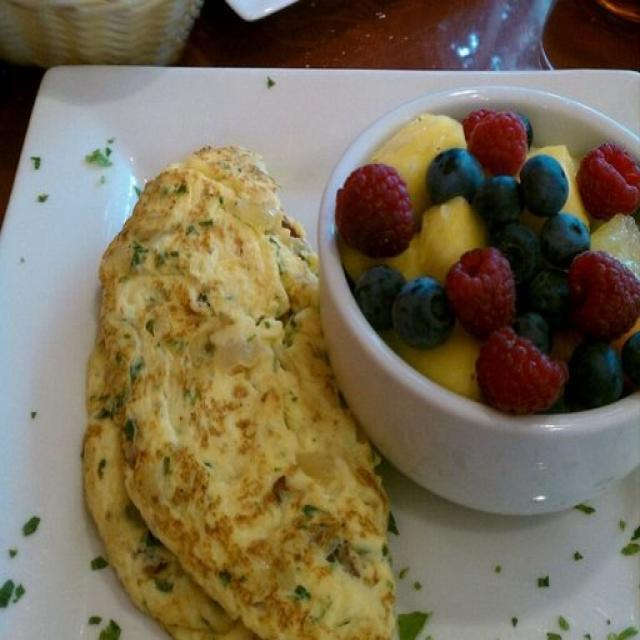telur_ayam_dadar: (78, 143, 397, 640)
